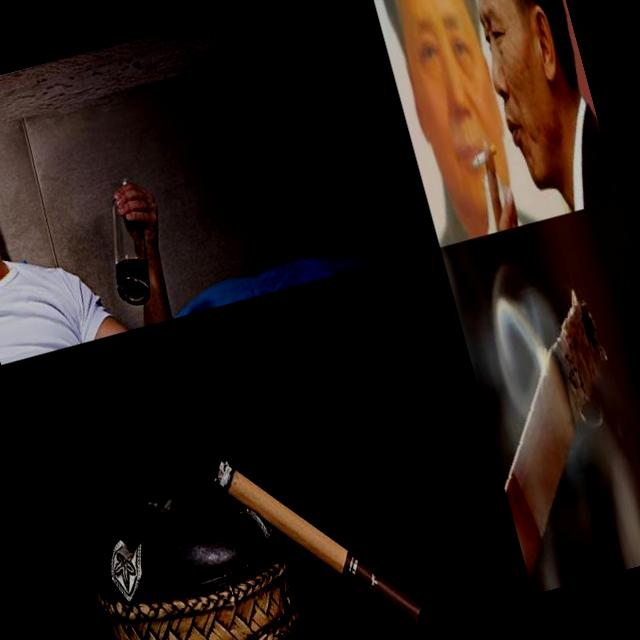smoke: (459, 284, 640, 590), (201, 413, 426, 640), (468, 144, 499, 170)
